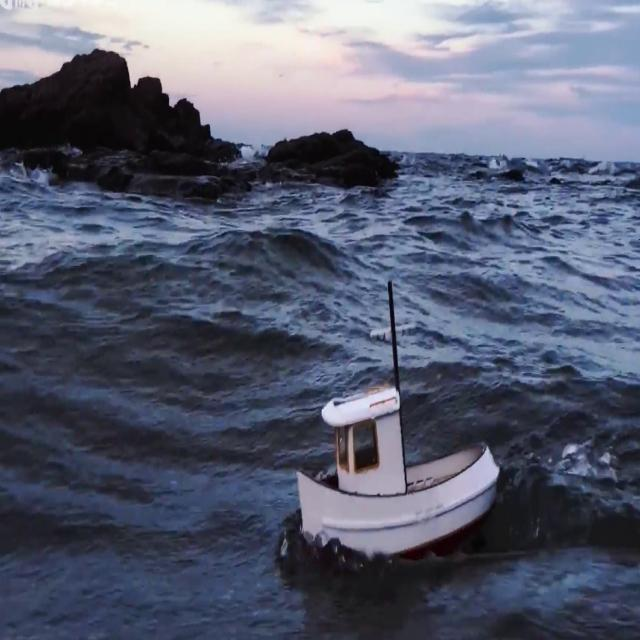houseboat: (294, 308, 506, 562)
